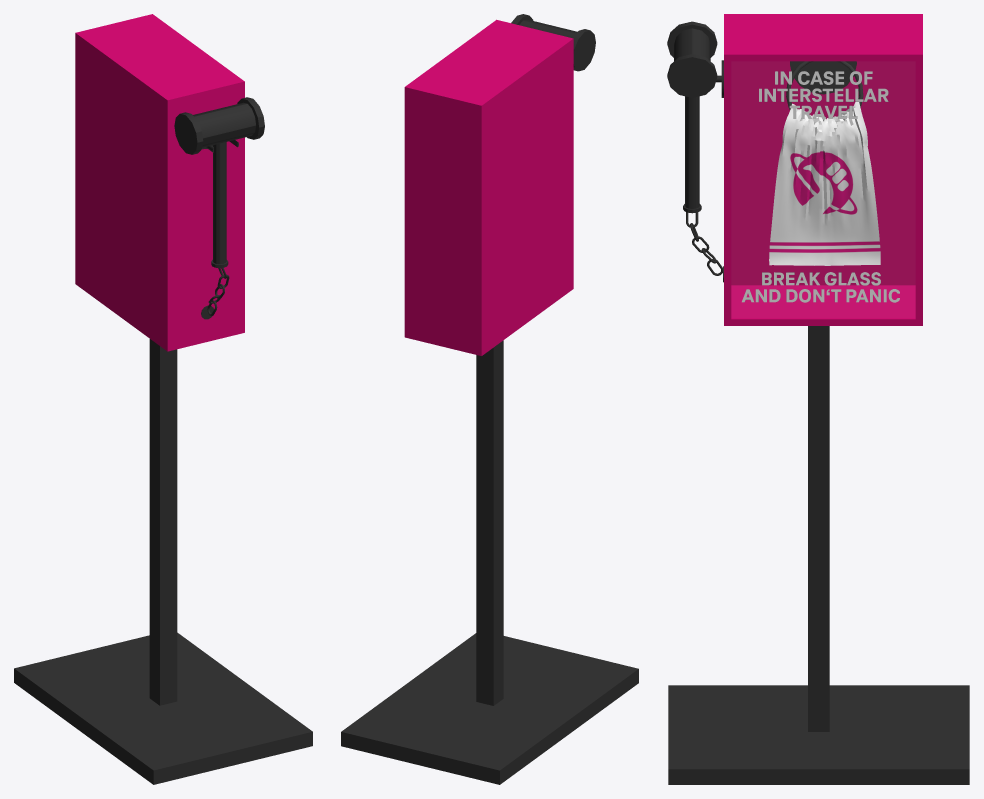
Rendered from EmergencyTowel_Stand.gltf.
3 views of the same model, side by side, from view 1: azimuth 30°, elevation 25°; view 2: azimuth 150°, elevation 25°; view 3: azimuth 270°, elevation 25° (orthographic). The views are drawn at different scales.
Visible parts, largest first — view 1: Stand; view 2: Stand; view 3: Stand.
Boxes of the visible parts, left/top/right/bottom form: Stand: left=14, top=14, right=312, bottom=784; Stand: left=341, top=14, right=638, bottom=784; Stand: left=667, top=14, right=969, bottom=784.
Size of the model in its own units: 0.4706 by 1.85 by 0.7162.
4 materials, 1 textured.
